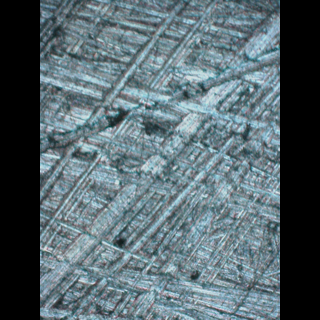d: (39, 0, 275, 268)
